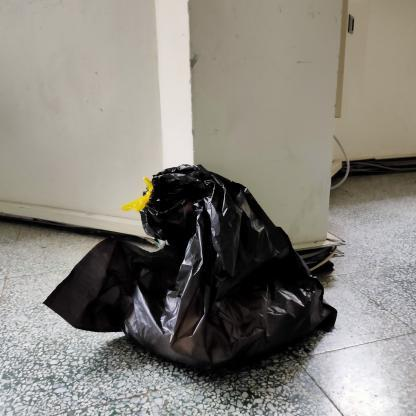black_bag: (44, 164, 338, 379)
